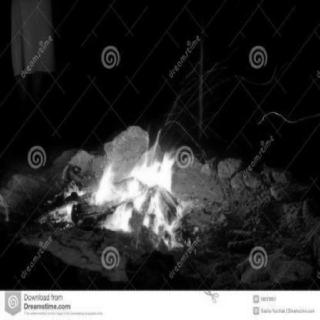Fire: (41, 104, 219, 257)
